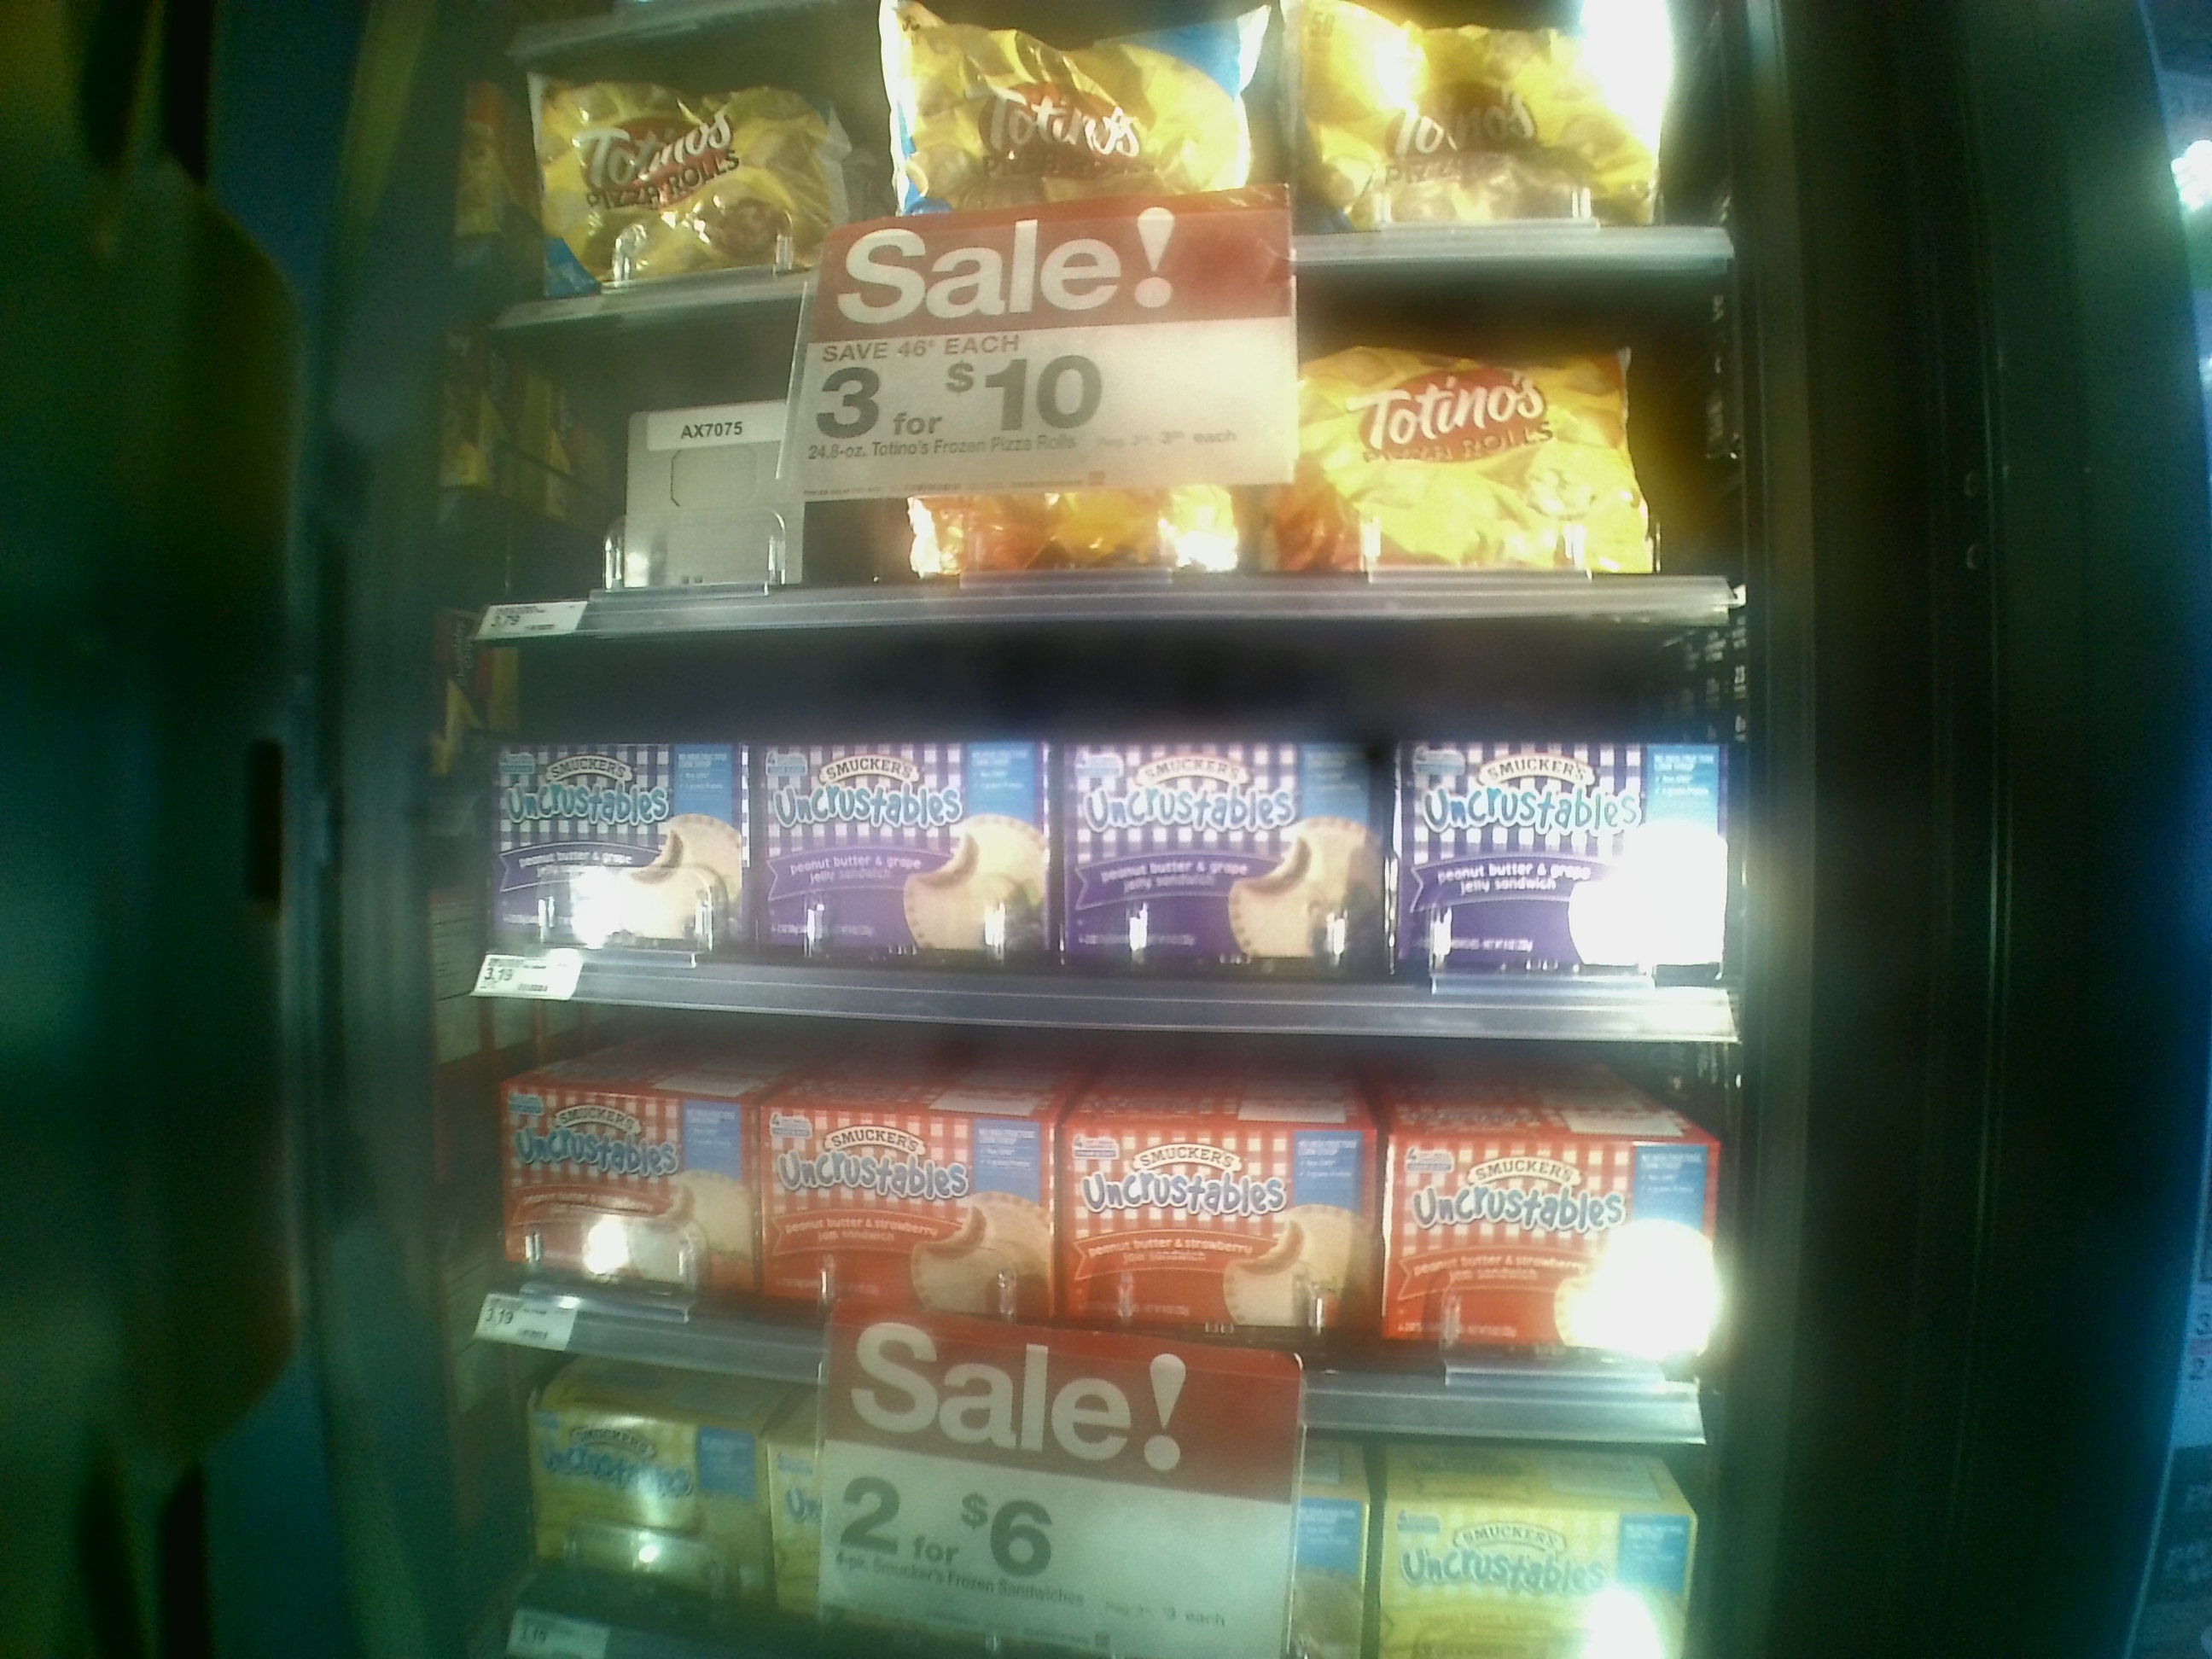shelf: (482, 627, 1740, 1065), (474, 1023, 1731, 1445), (456, 326, 1749, 624)
